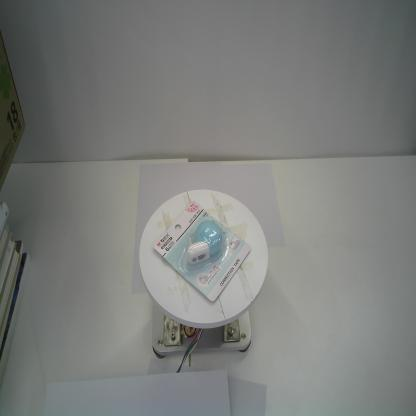Stationery: (153, 200, 251, 302)
